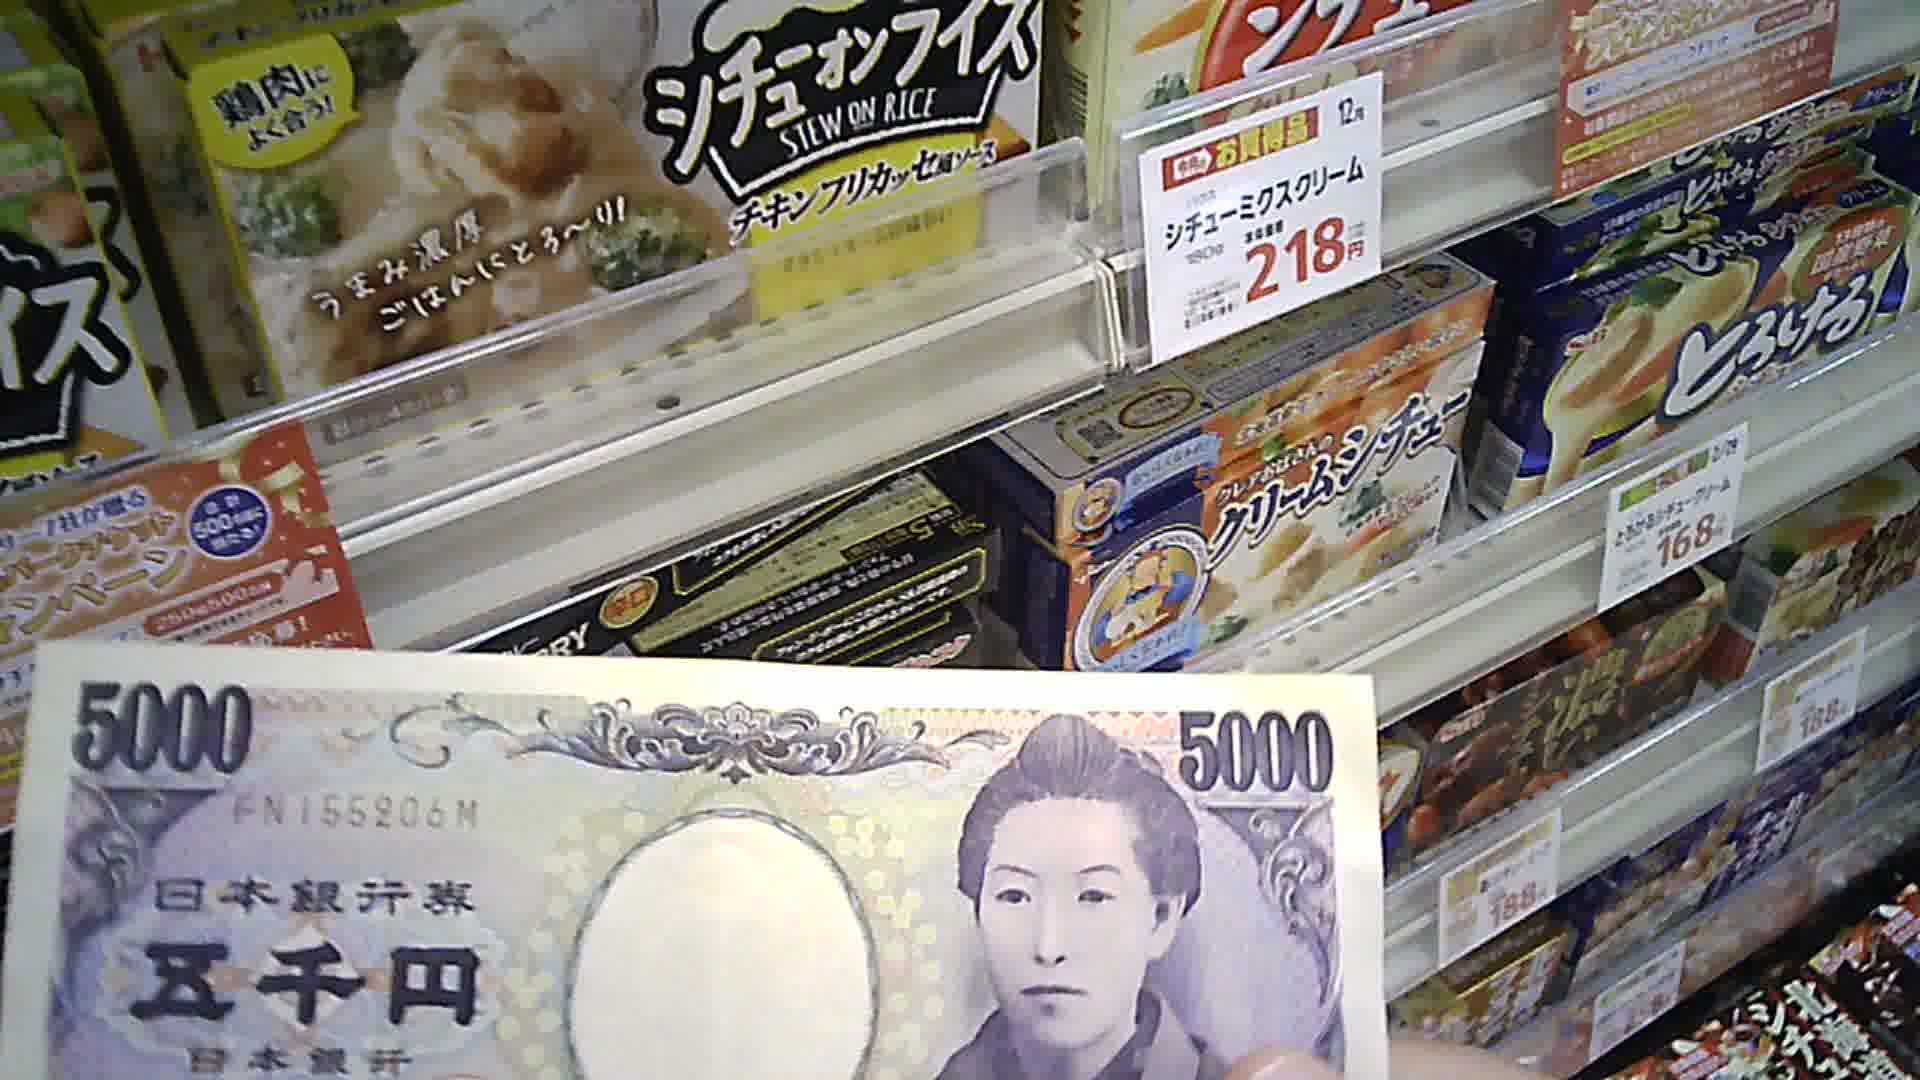5,000 Yen: (8, 611, 1404, 1075)
